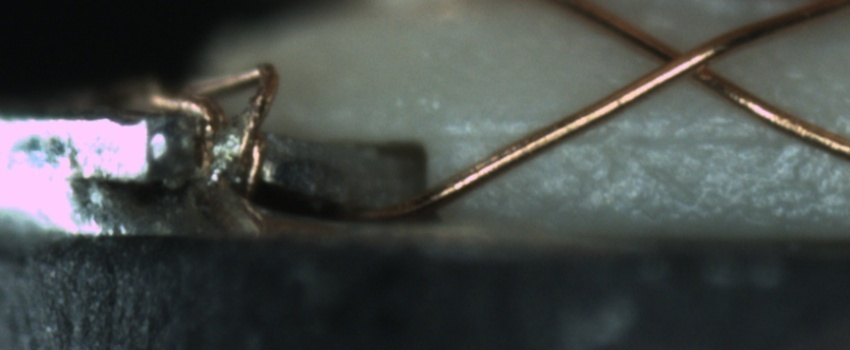CL: (634, 28, 734, 93)
DL: (444, 104, 849, 165)
TE: (143, 51, 283, 197)
